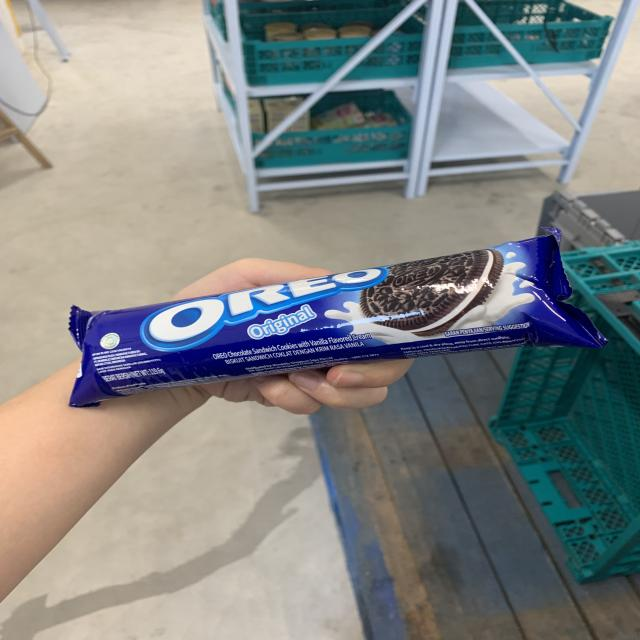object_name: (77, 251, 570, 368)
